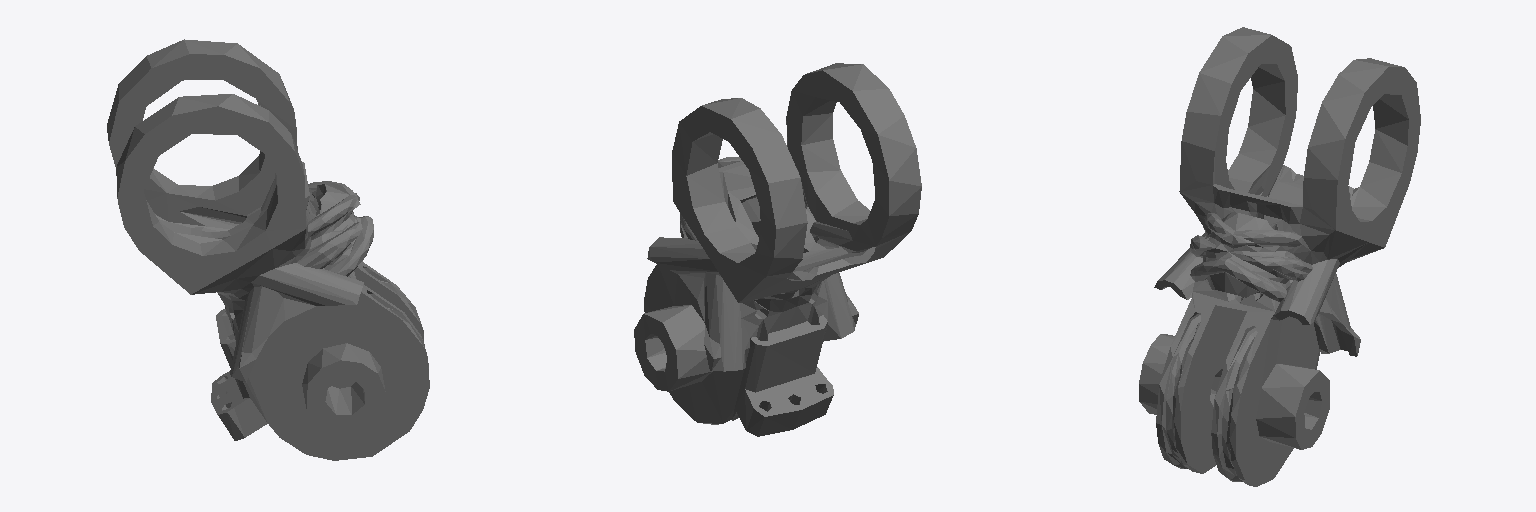
File: hand_finger4-b.obj
3 views of the same model, side by side, from view 1: azimuth 30°, elevation 25°; view 2: azimuth 150°, elevation 25°; view 3: azimuth 270°, elevation 25° (orthographic).
Parts seen in each view (by area): view 1: finger4-b; view 2: finger4-b; view 3: finger4-b.
Boxes of the visible parts, box(x1,y1,x2,y2) form: finger4-b: box(107, 39, 429, 460); finger4-b: box(634, 63, 921, 436); finger4-b: box(1139, 27, 1420, 486).
Bounding box in the file's own units: 0.0754 × 0.0922 × 0.063.